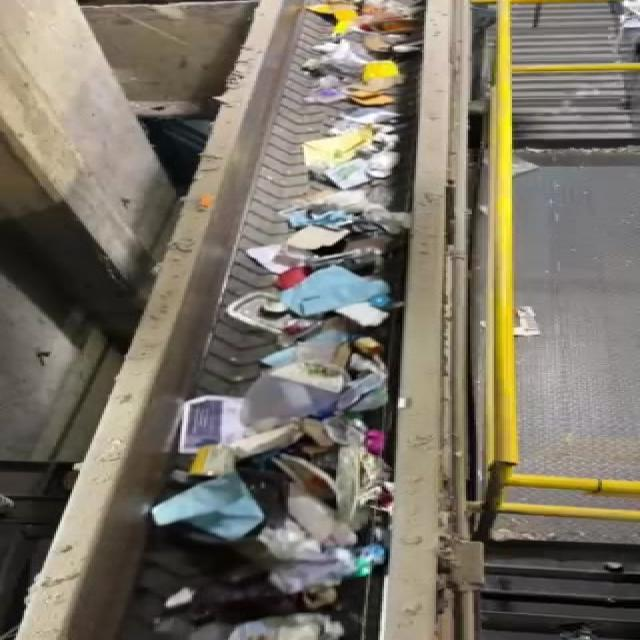paper: (152, 476, 279, 545), (325, 436, 400, 530), (158, 391, 257, 462), (326, 541, 389, 582)
pp: (336, 328, 394, 359)
